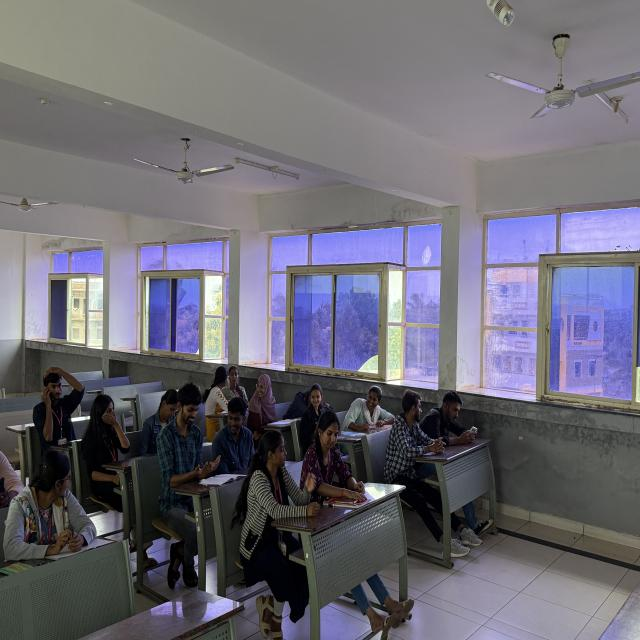Reading: (158, 382, 230, 499)
Using Phone: (30, 358, 86, 452), (424, 386, 482, 448)
